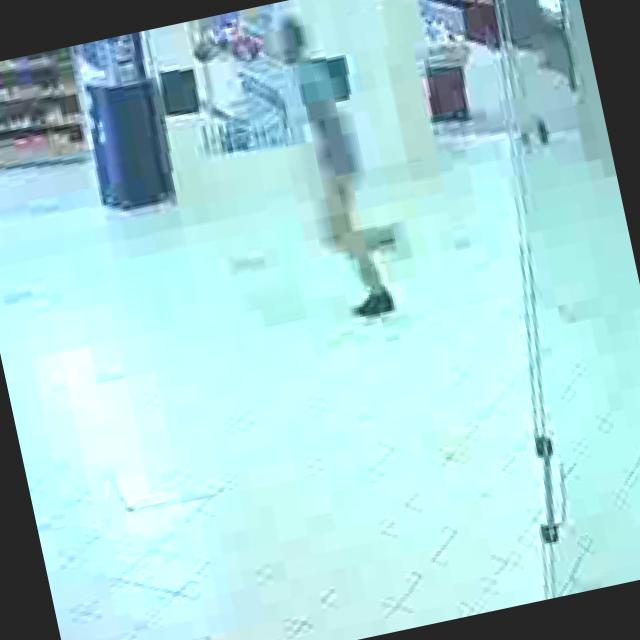person: (269, 2, 416, 320)
